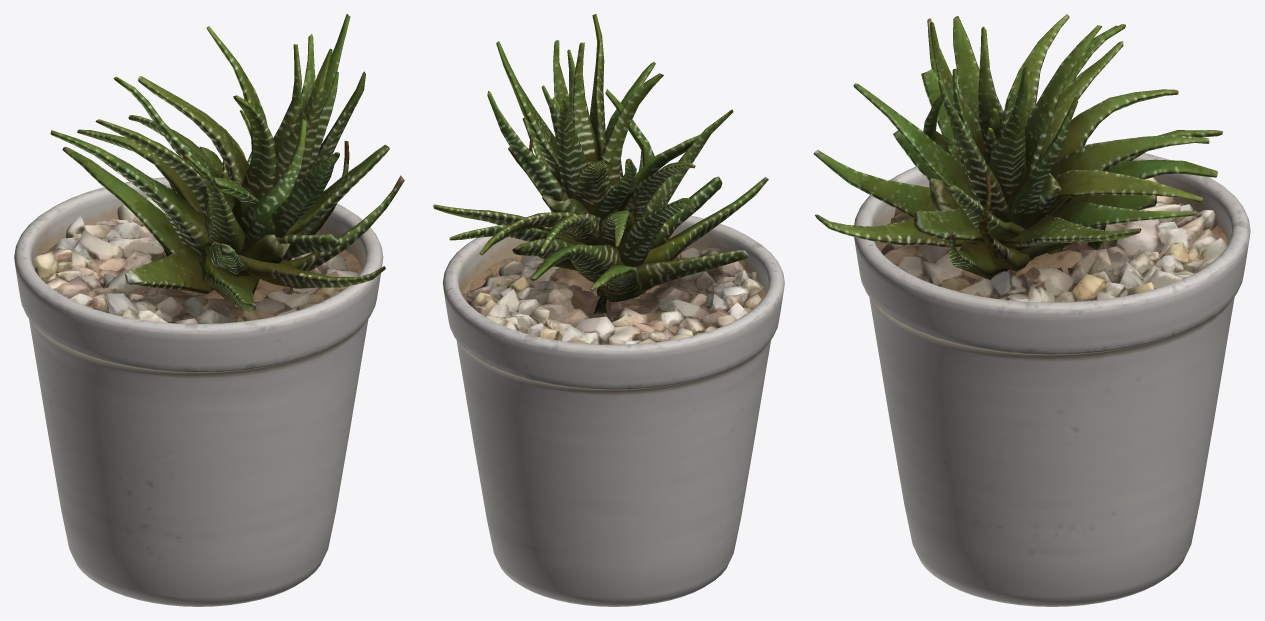
3 renders of one model, left to right at view 1: azimuth 30°, elevation 25°; view 2: azimuth 150°, elevation 25°; view 3: azimuth 270°, elevation 25°, orthographic. The views are drawn at different scales.
Parts seen in each view (by area): view 1: potted_plant_04_pot, potted_plant_04_plant, potted_plant_04_ground, potted_plant_04_dirt; view 2: potted_plant_04_pot, potted_plant_04_plant, potted_plant_04_ground, potted_plant_04_dirt; view 3: potted_plant_04_pot, potted_plant_04_plant, potted_plant_04_ground, potted_plant_04_dirt.
Boxes of the visible parts, <box> form: potted_plant_04_pot: <box>14,177,383,606</box>; potted_plant_04_plant: <box>50,14,404,311</box>; potted_plant_04_ground: <box>34,196,357,323</box>; potted_plant_04_dirt: <box>34,238,362,307</box>; potted_plant_04_pot: <box>442,215,784,606</box>; potted_plant_04_plant: <box>433,14,768,314</box>; potted_plant_04_ground: <box>463,247,765,344</box>; potted_plant_04_dirt: <box>462,247,765,306</box>; potted_plant_04_pot: <box>854,144,1250,606</box>; potted_plant_04_plant: <box>813,14,1222,279</box>; potted_plant_04_ground: <box>881,177,1227,302</box>; potted_plant_04_dirt: <box>875,200,1228,297</box>.
Size of the model in its own units: 0.1679 by 0.2675 by 0.1848.
1 material, 1 textured.
